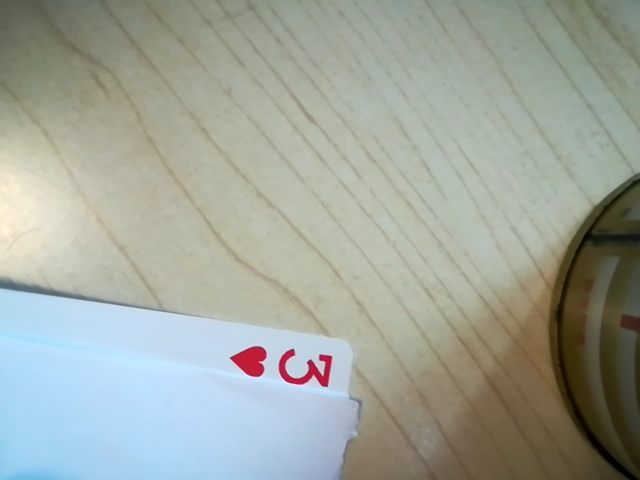hx 3: (231, 338, 347, 398)
